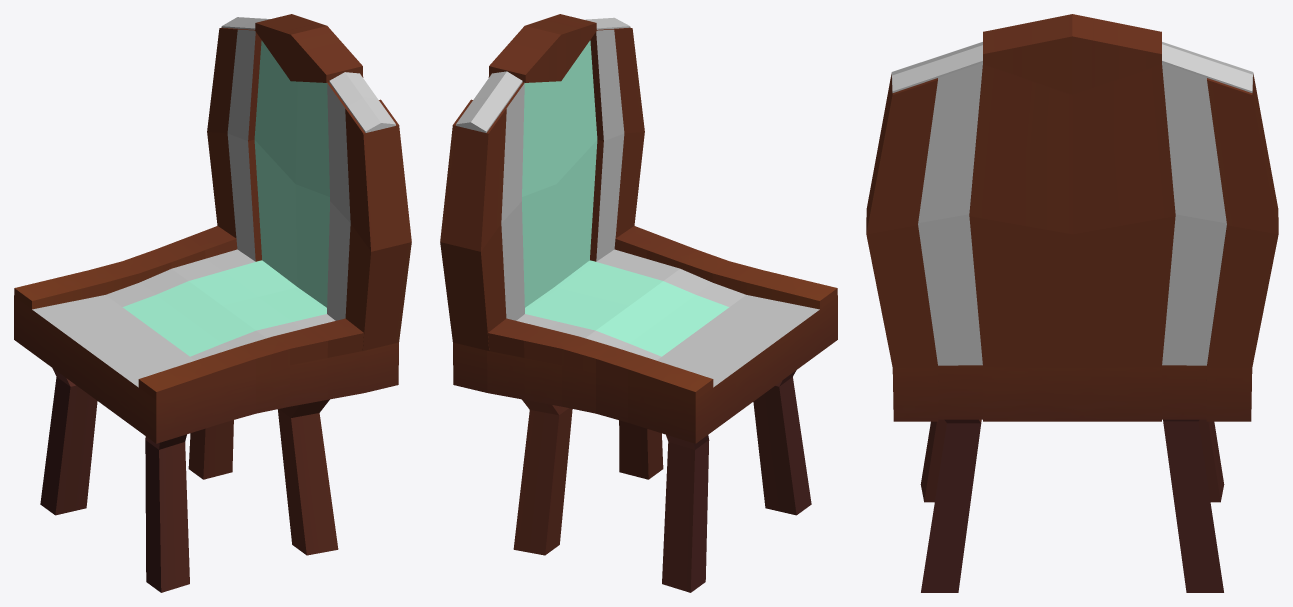
Rendered from Prop_Chair_Wood.fbx.
The picture shows the model from 3 angles, left to right: view 1: azimuth 30°, elevation 25°; view 2: azimuth 150°, elevation 25°; view 3: azimuth 270°, elevation 25°; orthographic projection. The views are drawn at different scales.
Visible parts, largest first — view 1: Chair; view 2: Chair; view 3: Chair.
Part boxes in pixels (x1,y1,x2,y2): Chair: (14, 14, 411, 592); Chair: (440, 14, 837, 592); Chair: (866, 14, 1278, 592).
Size of the model in its own units: 37.67 by 68.84 by 43.83.
